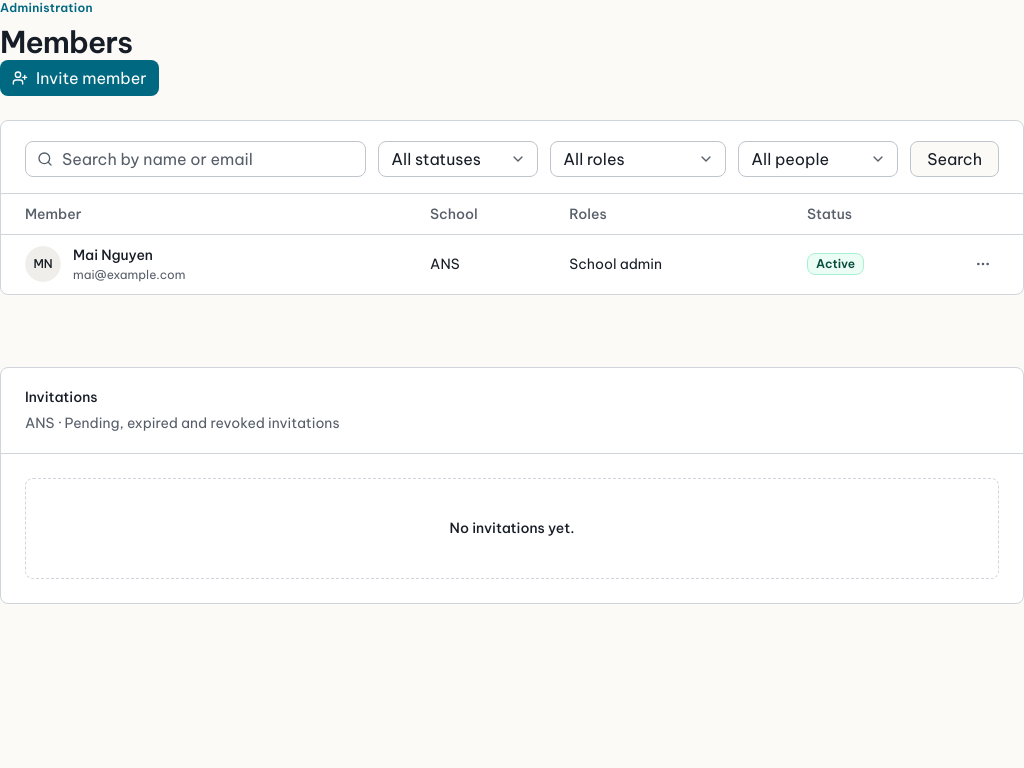
Test: MembersDirectory › loads scoped members immediately and creates a copyable one-time invitation
This screenshot has width=1024, height=768.
Click the button "Invite member". click: (79, 78)
box: top-left (0, 60), bottom-right (159, 96)
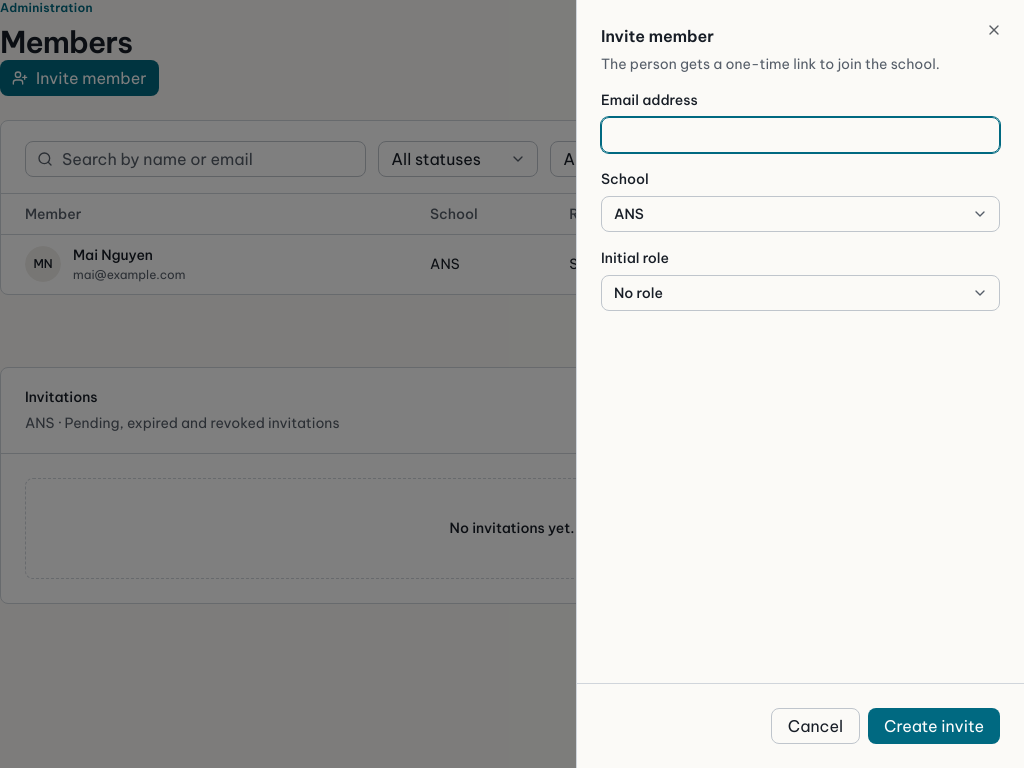
Type "new@example.com" into the field labelled "Email address". click: (800, 135)
box: top-left (601, 117), bottom-right (1000, 153)
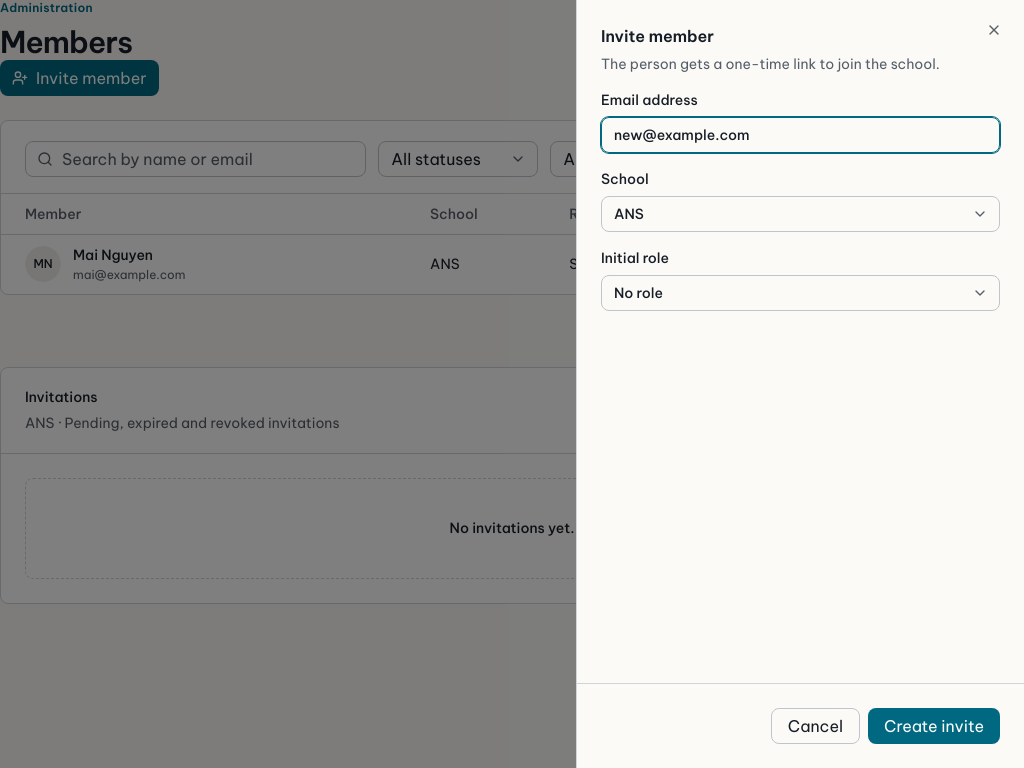
Click the button "Create invite". click: (934, 726)
box: top-left (868, 708), bottom-right (1000, 744)
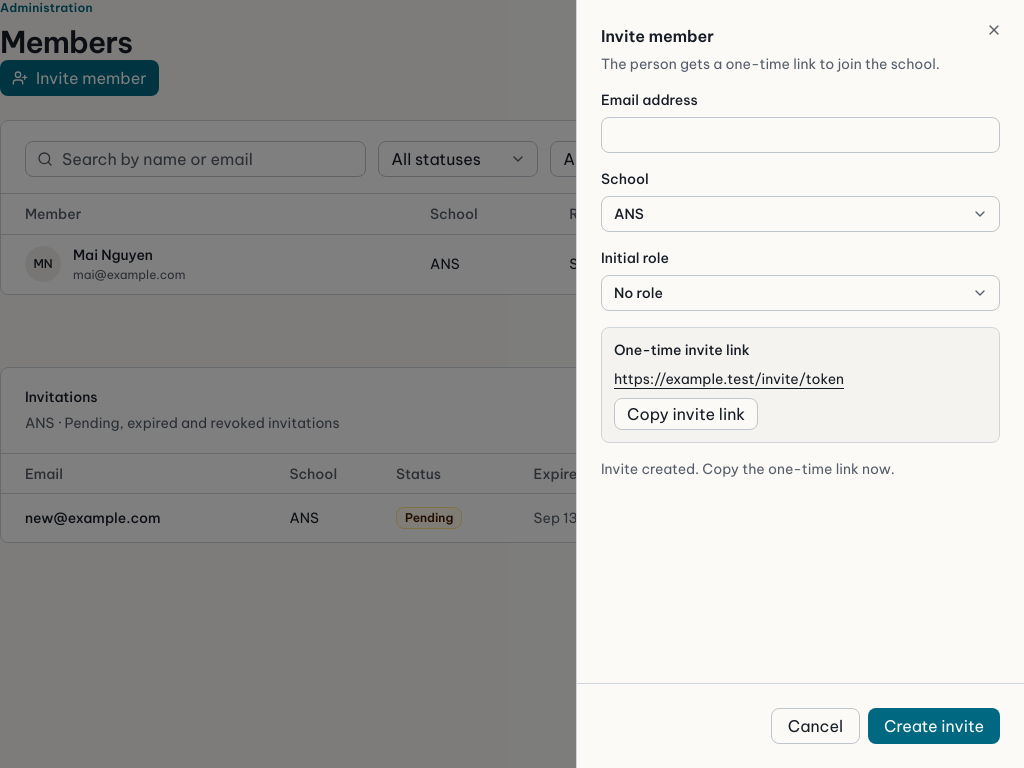
Expected: the button "Copy invite link" is shown, top-left (614, 398), bottom-right (758, 430)
